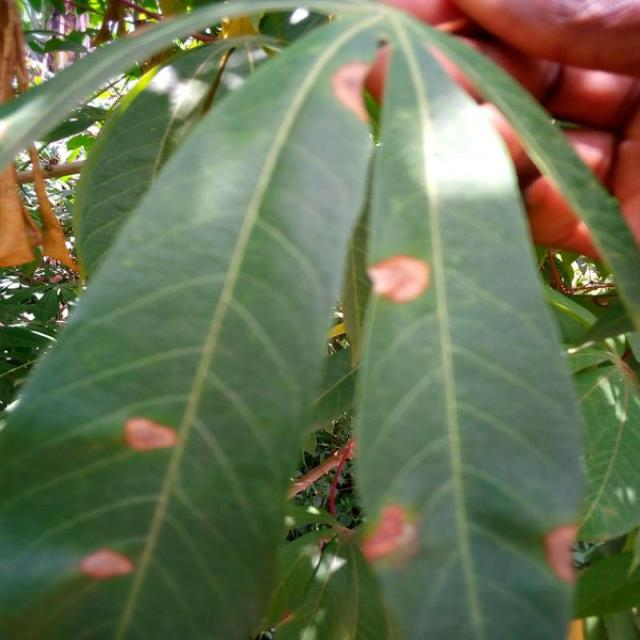cassava leaf: (1, 3, 634, 638), (350, 17, 588, 638)
